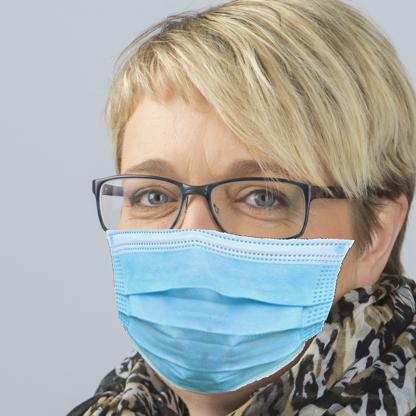mask: (98, 221, 357, 399)
